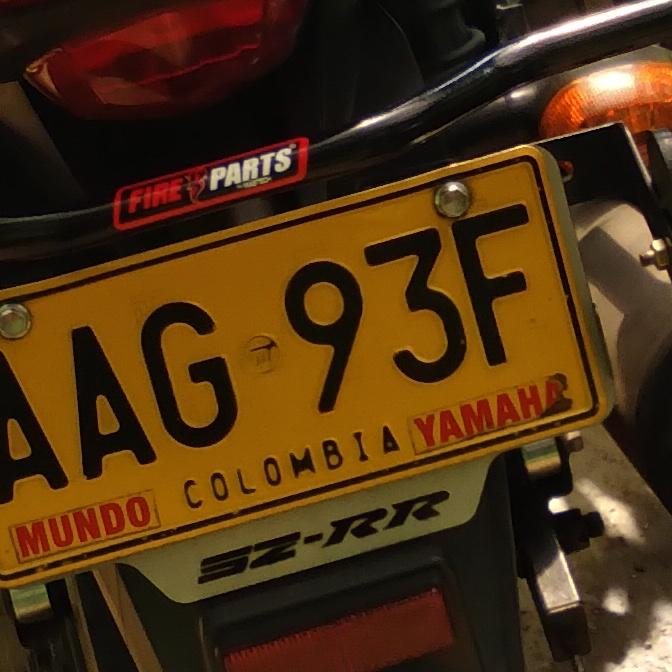plates: (0, 142, 615, 593)
